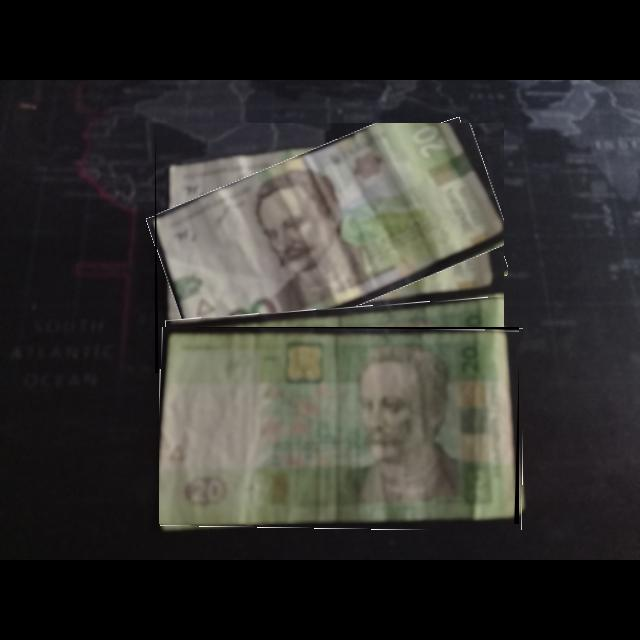20uah: (157, 123, 505, 372), (159, 330, 516, 525)
